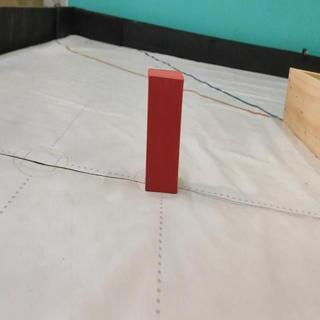redbox: (145, 66, 184, 194)
